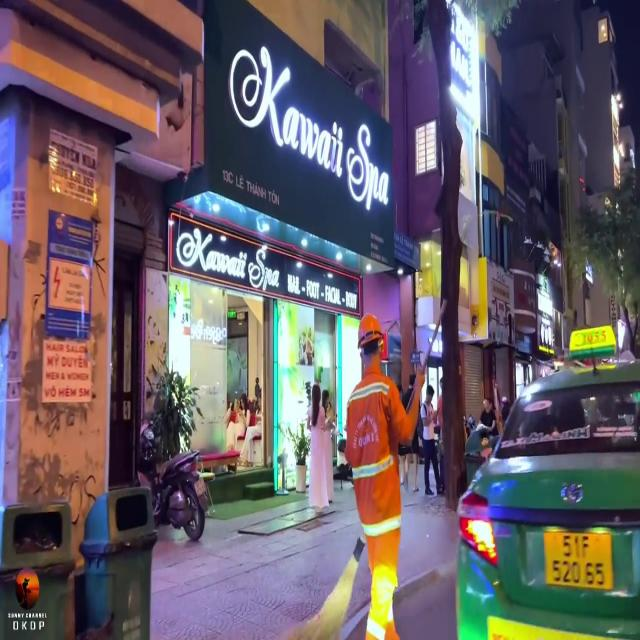bien_vang: (547, 528, 616, 596)
